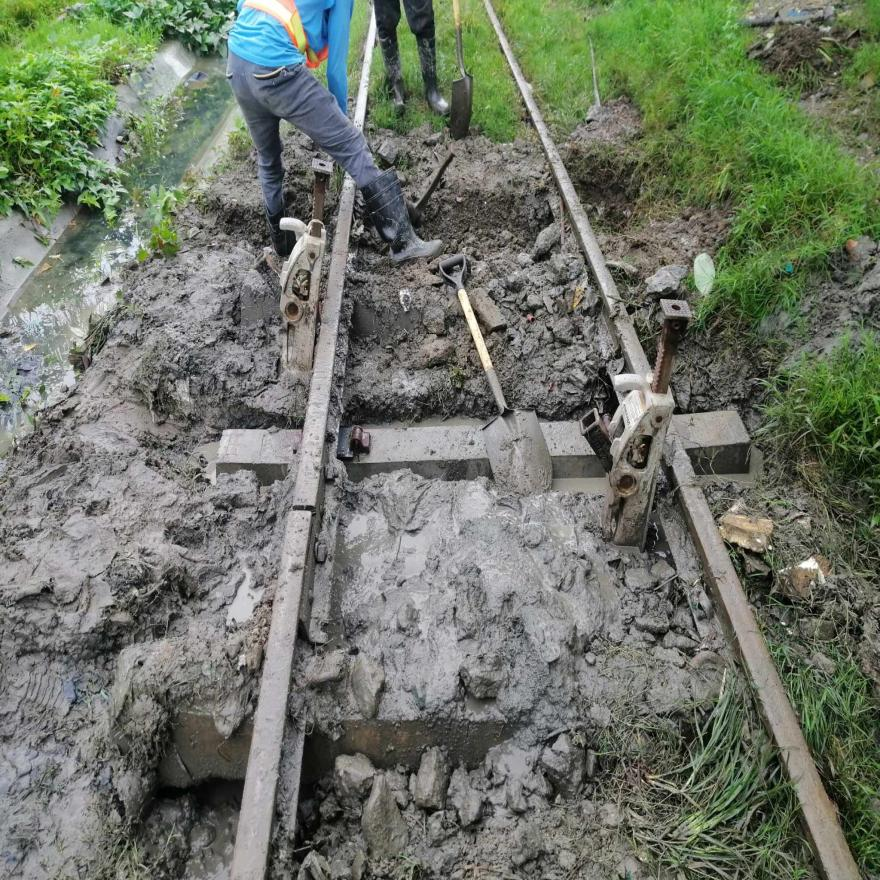railway-gap: (260, 457, 337, 556)
